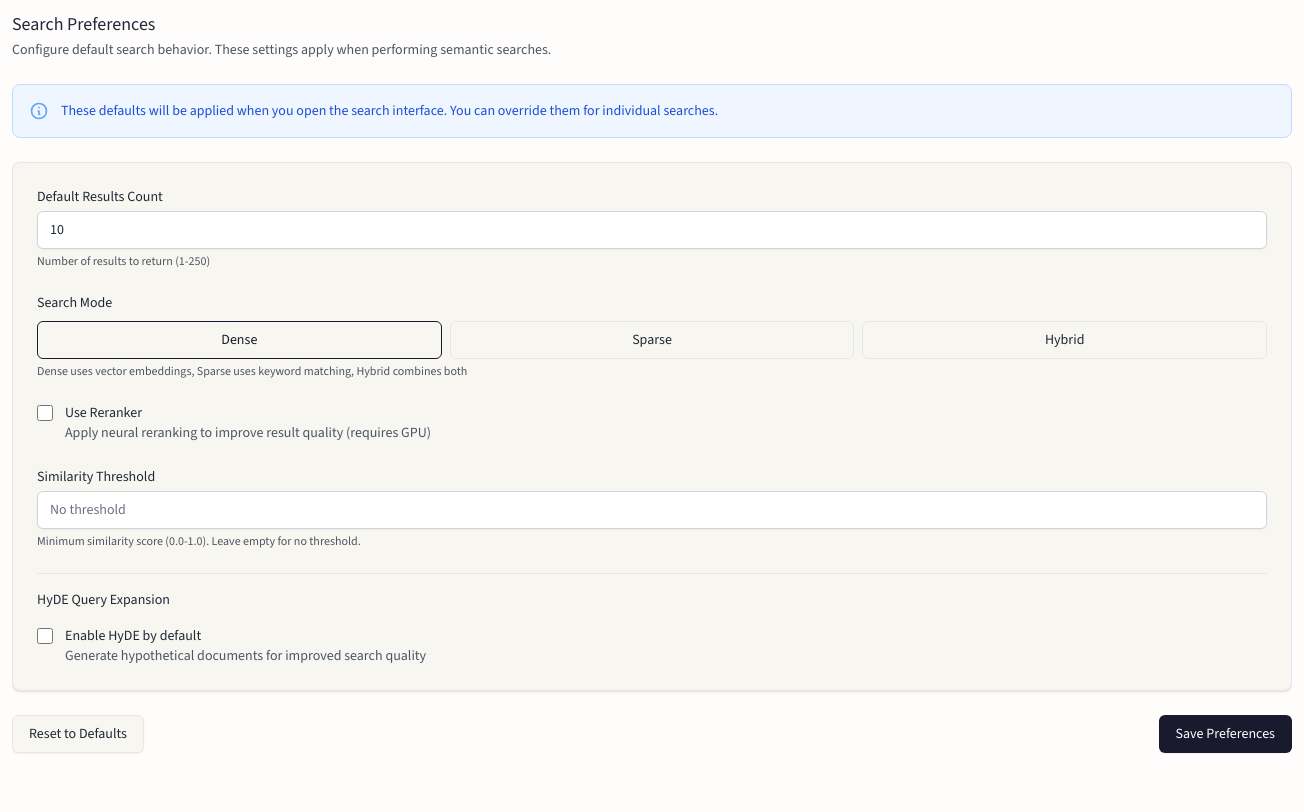
Test: SearchPreferencesSettings › conditional rendering › shows RRF field when mode is hybrid
The image size is (1304, 812).
Click the button "Hybrid".
click(1065, 340)  # box [862,321,1267,359]
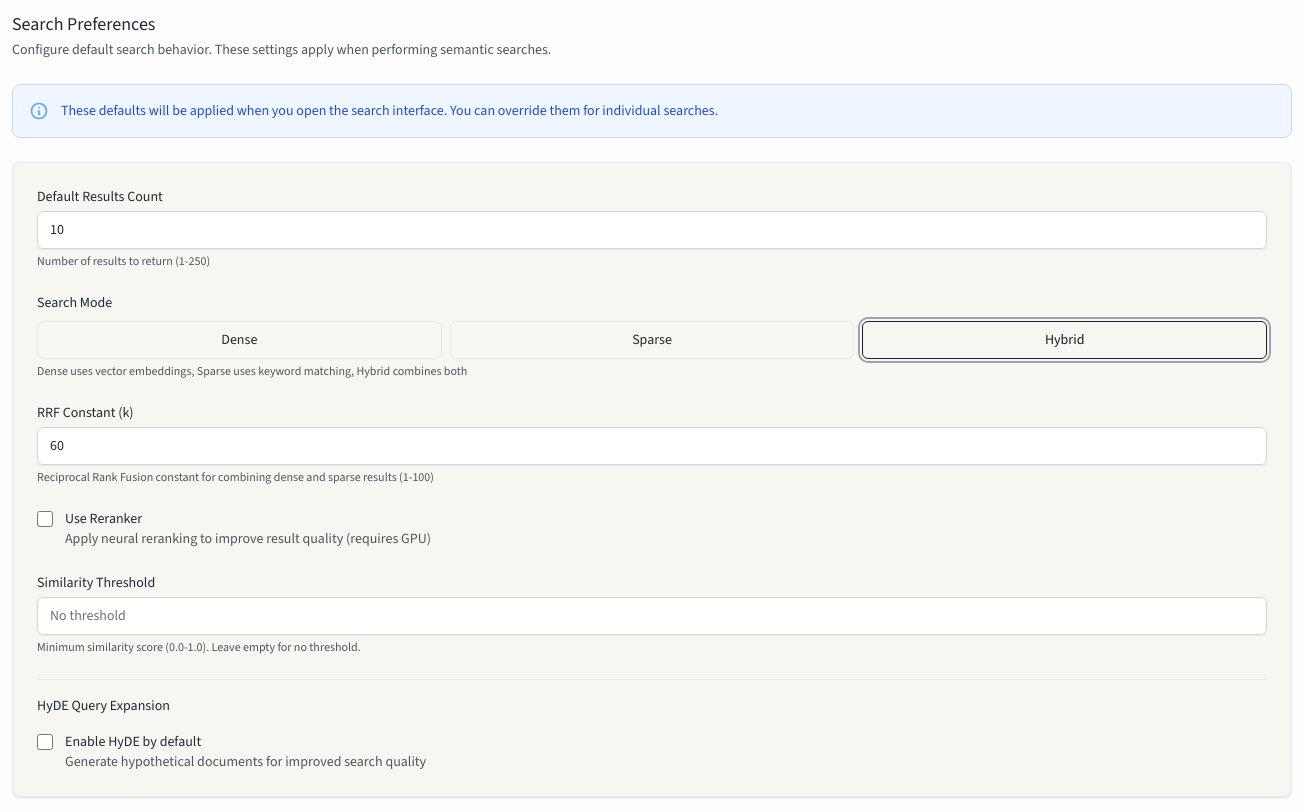
Expected: the text "RRF Constant (k)" is shown, [37,403,134,422]
